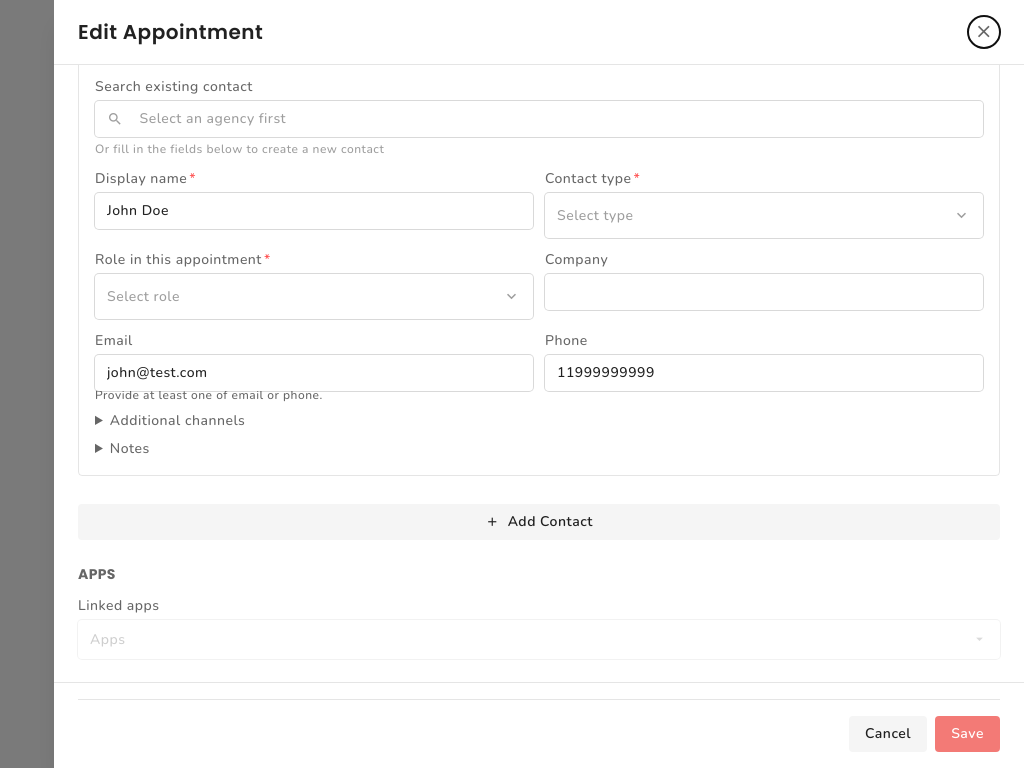
Test: AppointmentFormDrawer › shows an inline AU phone error when an invalid contact phone is blurred
The width and height of the screenshot is (1024, 768).
(page scrolled)
Replace the text in the field named "Contact 1 Phone" with "123" at (764, 373), box [545,355,983,391]
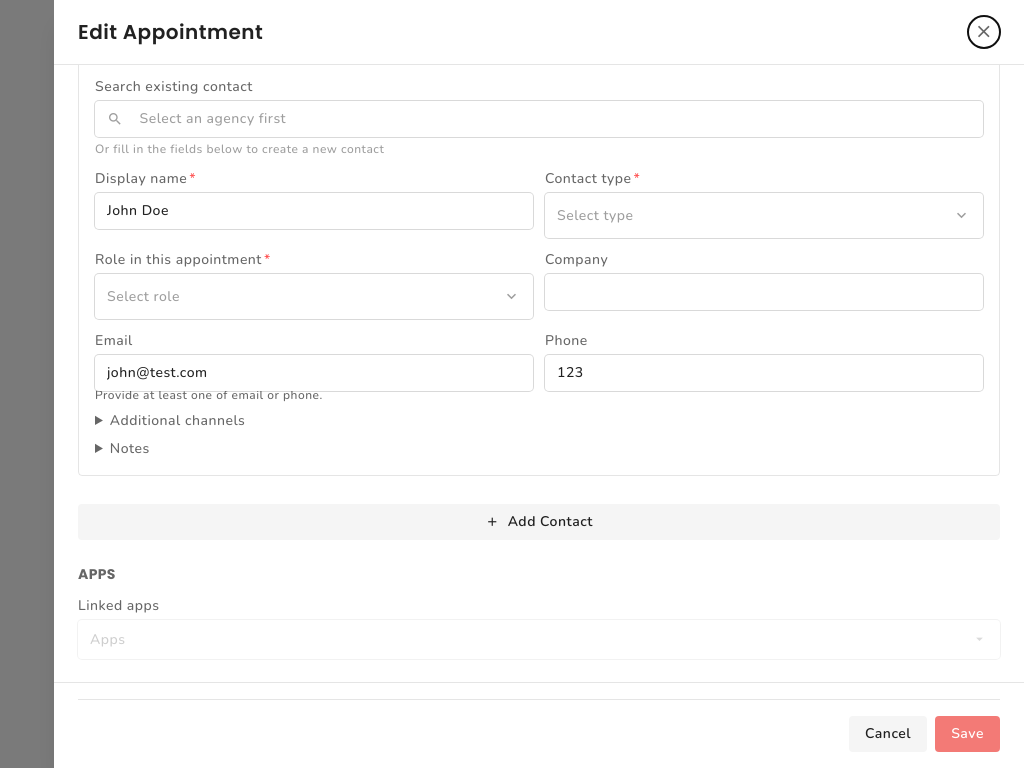
Leave the field named "Contact 1 Phone", box [545,355,983,391]
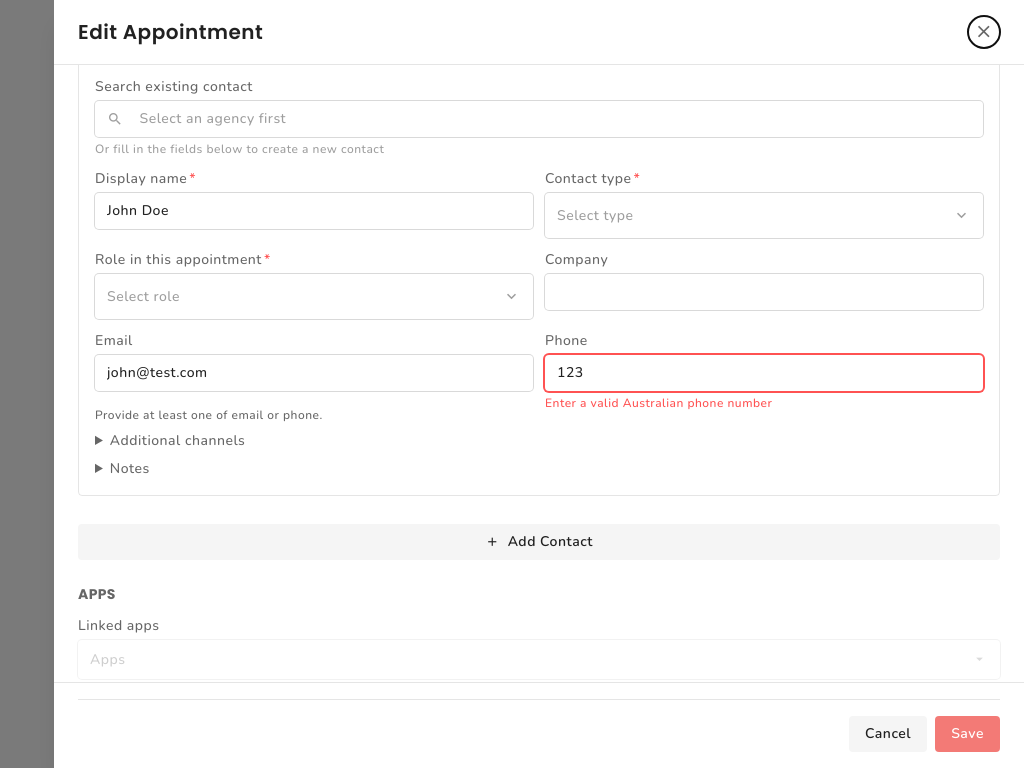
Now the text "Enter a valid Australian phone number" is shown, box [545,395,772,411]
